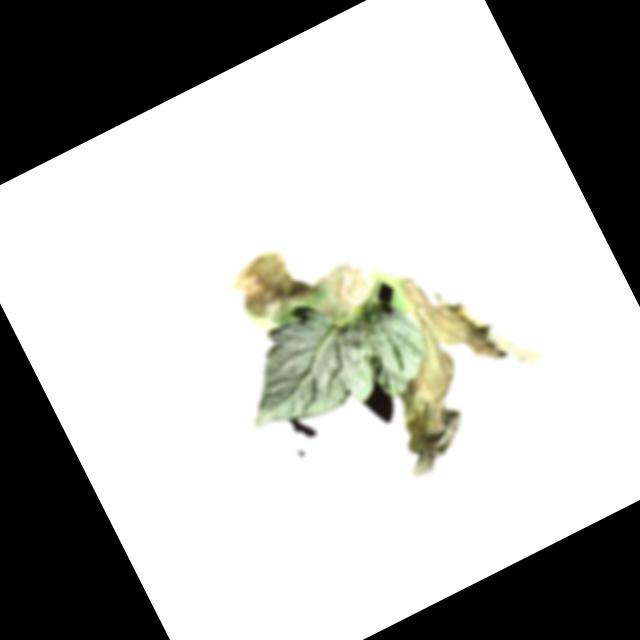Late_blight: (333, 239, 570, 482), (217, 211, 382, 360)
